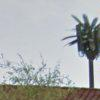Palm tree: (67, 11, 100, 87)
